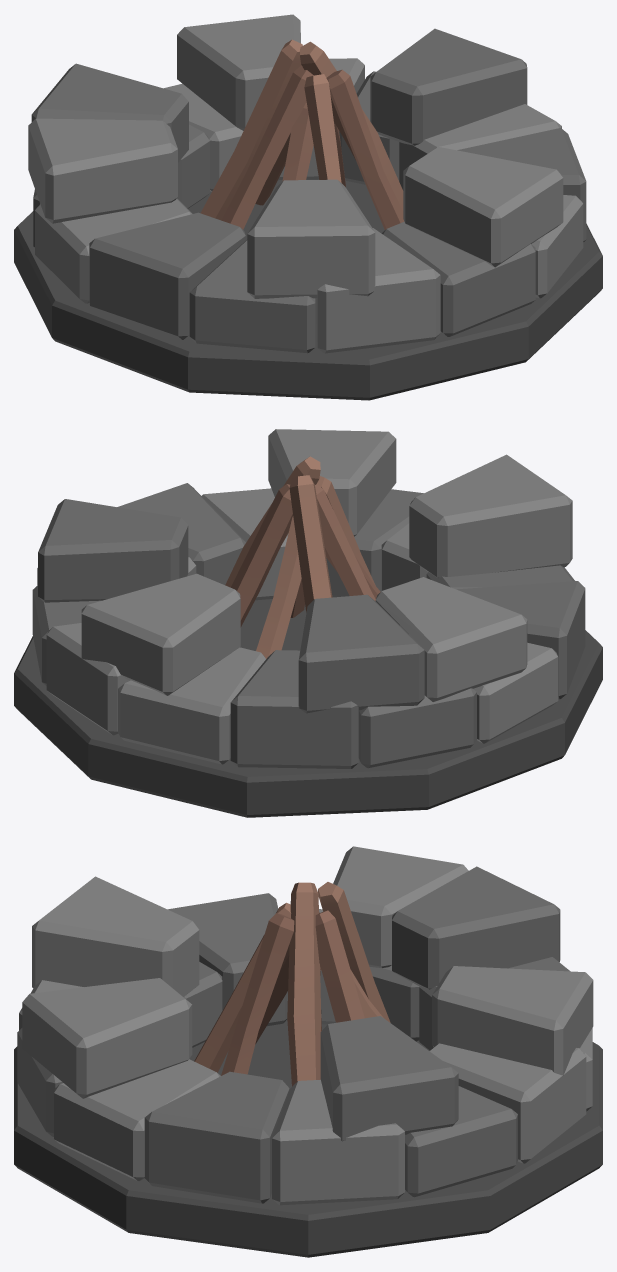
The model's file is bonfire_a001.glb.
3 views of the same model, one above another, from view 1: azimuth 30°, elevation 25°; view 2: azimuth 150°, elevation 25°; view 3: azimuth 270°, elevation 25° (orthographic). The views are drawn at different scales.
Parts seen in each view (by area): view 1: bonfire_a001; view 2: bonfire_a001; view 3: bonfire_a001.
Part boxes in pixels (<box>): bonfire_a001: <box>14,14,602,400</box>; bonfire_a001: <box>14,429,602,817</box>; bonfire_a001: <box>14,846,602,1257</box>.
Bounding box in the file's own units: 1.28 × 0.5652 × 1.22.
Materials: 1 (1 with a texture image).
